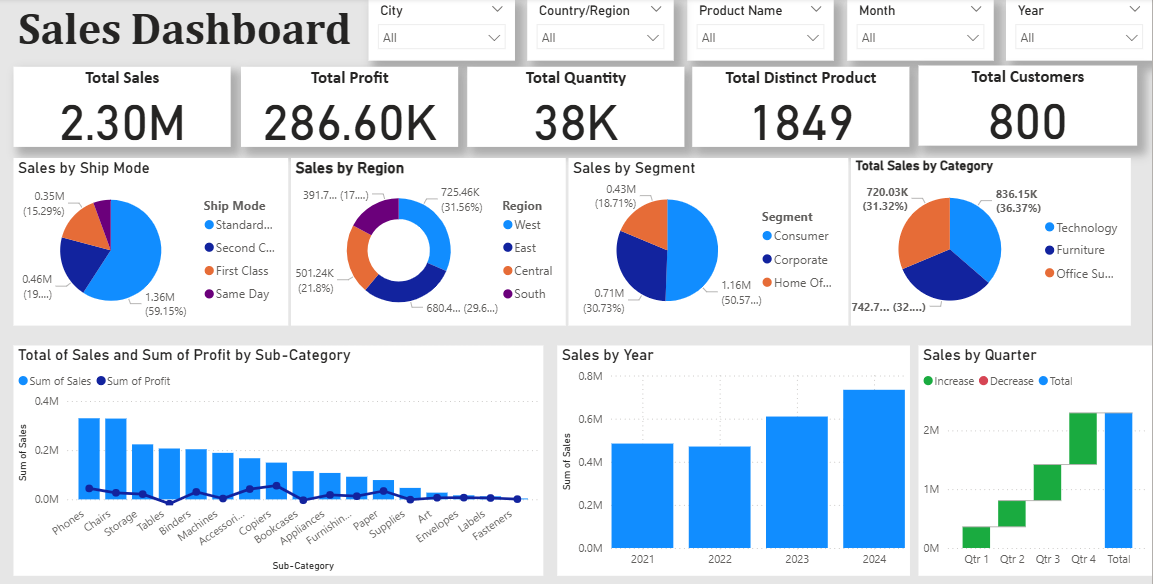

This screenshot's page, from the dashboard's own definition file:
{"tool":"powerbi","page":{"name":"Page 1","canvas":[1280,720],"ordinal":0},"visuals":[{"type":"slicer","fields":{"Values":["Sales Data.City"]},"box":[419.9,0,160.5,68.6],"z":0},{"type":"slicer","fields":{"Values":["Sales Data.Product Name"]},"box":[769.8,0,160.5,68.6],"z":1},{"type":"slicer","fields":{"Values":["Sales Data.Order Date.Variation.Date Hierarchy.Month"]},"box":[945.5,0,160.5,68.6],"z":2},{"type":"slicer","fields":{"Values":["Sales Data.Country/Region"]},"box":[594.2,0,160.5,68.6],"z":3},{"type":"slicer","fields":{"Values":["Sales Data.Order Date.Variation.Date Hierarchy.Year"]},"box":[1119.7,0,160.5,68.6],"z":4},{"type":"card","title":"Total Sales","fields":{"Values":["Sum(Sales Data.Sales)"]},"box":[30.2,75.5,238.8,87.8],"z":5},{"type":"card","title":"Total Profit","fields":{"Values":["Sum(Sales Data.Profit)"]},"box":[279.9,75.5,238.8,87.8],"z":6},{"type":"card","title":"Total Quantity","fields":{"Values":["Sum(Sales Data.Quantity)"]},"box":[528.3,75.5,238.8,87.8],"z":7},{"type":"card","title":"Total Distinct Product","fields":{"Values":["Count(Sales Data.Product Name)","select"]},"box":[775.3,75.5,238.8,87.8],"z":8},{"type":"card","title":"Total Customers","fields":{"Values":["Count(Sales Data.Customer ID)"]},"box":[1023.7,74.1,240.1,87.8],"z":9},{"type":"pieChart","title":"Total Sales by Category","fields":{"Y":["Sum(Sales Data.Sales)"],"Category":["Sales Data.Category"]},"box":[949.6,175.6,307.4,183.9],"z":10},{"type":"donutChart","title":"Sales by Region","fields":{"Category":["Sales Data.Region"],"Y":["Sum(Sales Data.Sales)"]},"box":[334.8,175.6,301.9,183.9],"z":11},{"type":"pieChart","title":"Sales by Segment","fields":{"Category":["Sales Data.Segment"],"Y":["Sum(Sales Data.Sales)"]},"box":[639.5,175.6,307.4,183.9],"z":12},{"type":"pieChart","title":"Sales by Ship Mode","fields":{"Y":["Sum(Sales Data.Sales)"],"Category":["Sales Data.Ship Mode"]},"box":[30.2,175.6,301.9,183.9],"z":13},{"type":"lineClusteredColumnComboChart","title":"Total of Sales and Sum of Profit by Sub-Category","fields":{"Y":["Sum(Sales Data.Sales)"],"Category":["Sales Data.Sub-Category"],"Y2":["Sum(Sales Data.Profit)"]},"box":[30.2,381.5,581.8,252.5],"z":14},{"type":"columnChart","title":"Sales by Year","fields":{"Y":["Sum(Sales Data.Sales)"],"Category":["Sales Data.Order Date.Variation.Date Hierarchy.Year"]},"box":[627.1,381.5,387,252.5],"z":15},{"type":"waterfallChart","title":"Sales by Quarter","fields":{"Y":["Sum(Sales Data.Sales)"],"Category":["Sales Data.Order Date.Variation.Date Hierarchy.Quarter"]},"box":[1023.7,381.5,256.6,252.5],"z":16},{"type":"textbox","box":[30.2,0,477.5,68.6],"z":17}]}

Visuals, with their boxes in screenshot pixels (x1, y1, x2, y2):
slicer - Sales Data.City: 440,9,564,62
slicer - Sales Data.Product Name: 710,9,833,62
slicer - Sales Data.Order Date.Variation.Date Hierarchy.Month: 845,9,968,62
slicer - Sales Data.Country/Region: 574,9,698,62
slicer - Sales Data.Order Date.Variation.Date Hierarchy.Year: 979,9,1102,62
"Total Sales" card: 140,67,324,135
"Total Profit" card: 333,67,516,135
"Total Quantity" card: 524,67,707,135
"Total Distinct Product" card: 714,67,898,135
"Total Customers" card: 905,66,1090,134
"Total Sales by Category" pieChart: 848,144,1084,286
"Sales by Region" donutChart: 375,144,607,286
"Sales by Segment" pieChart: 609,144,846,286
"Sales by Ship Mode" pieChart: 140,144,373,286
"Total of Sales and Sum of Profit by Sub-Category" lineClusteredColumnComboChart: 140,303,588,497
"Sales by Year" columnChart: 600,303,898,497
"Sales by Quarter" waterfallChart: 905,303,1102,497
textbox: 140,9,508,62
